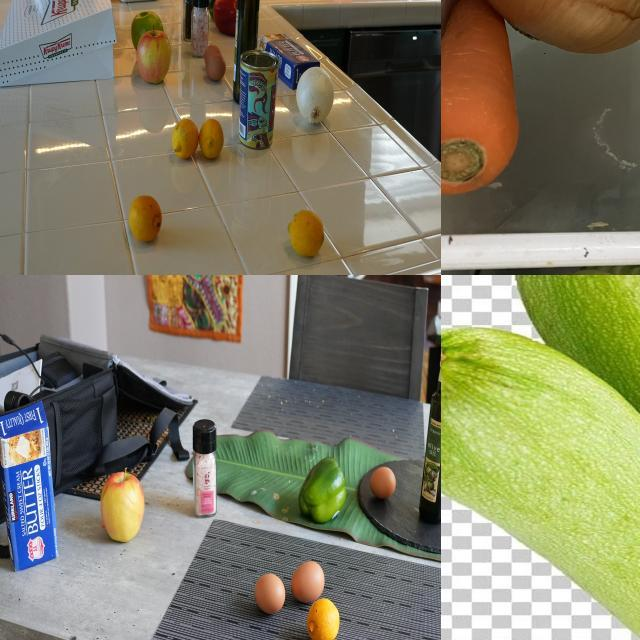bell_pepper: (298, 456, 352, 532), (215, 1, 241, 34), (184, 1, 200, 42), (211, 1, 234, 15)
carrot: (442, 1, 527, 200)
egg: (291, 558, 327, 604), (257, 572, 289, 618), (370, 461, 398, 505), (206, 56, 228, 84), (203, 47, 223, 72)
onion: (468, 1, 640, 59), (298, 67, 336, 127)
zucchini: (442, 302, 640, 640)
